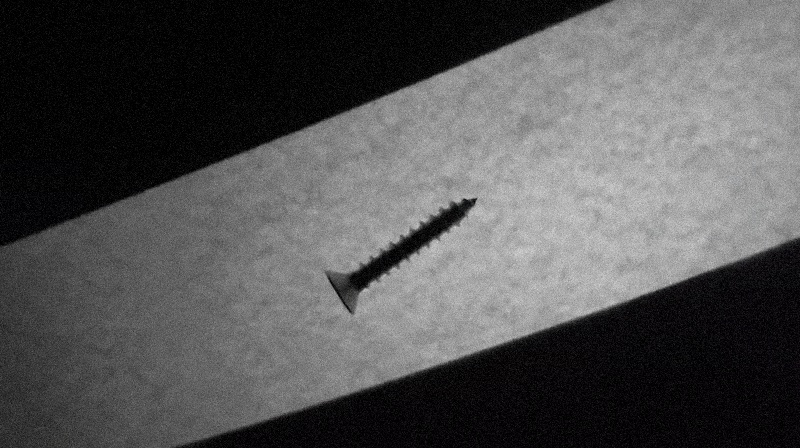S001: (324, 196, 483, 316)
